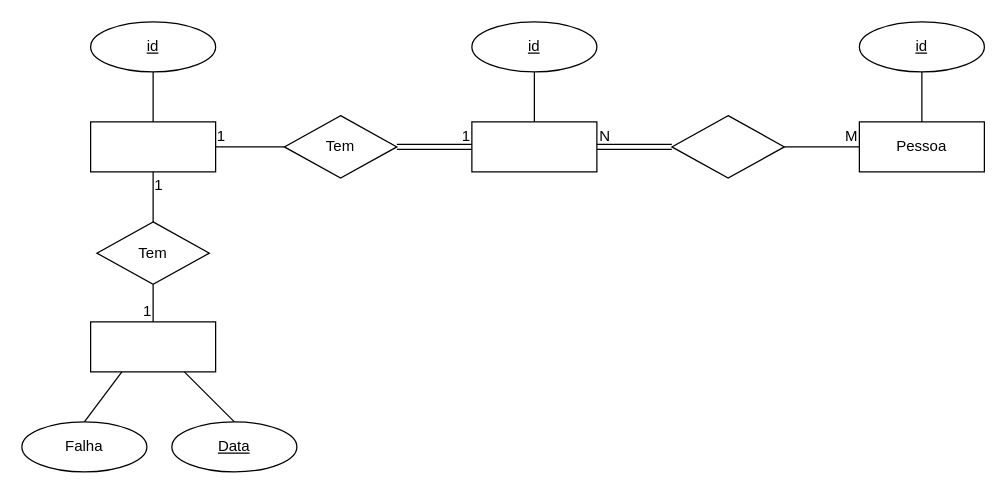
The diagram is 1006 pixels wide and 494 high, and some of its shapes have lost their labels. The shapes that lost their labels are listed below. From the top down, each one's centre as x and y in pixels, then its label:
At pixel 152 146: "Serviço".
At pixel 534 146: "Subscrição".
At pixel 727 146: "Faz".
At pixel 152 346: "Histórico".
